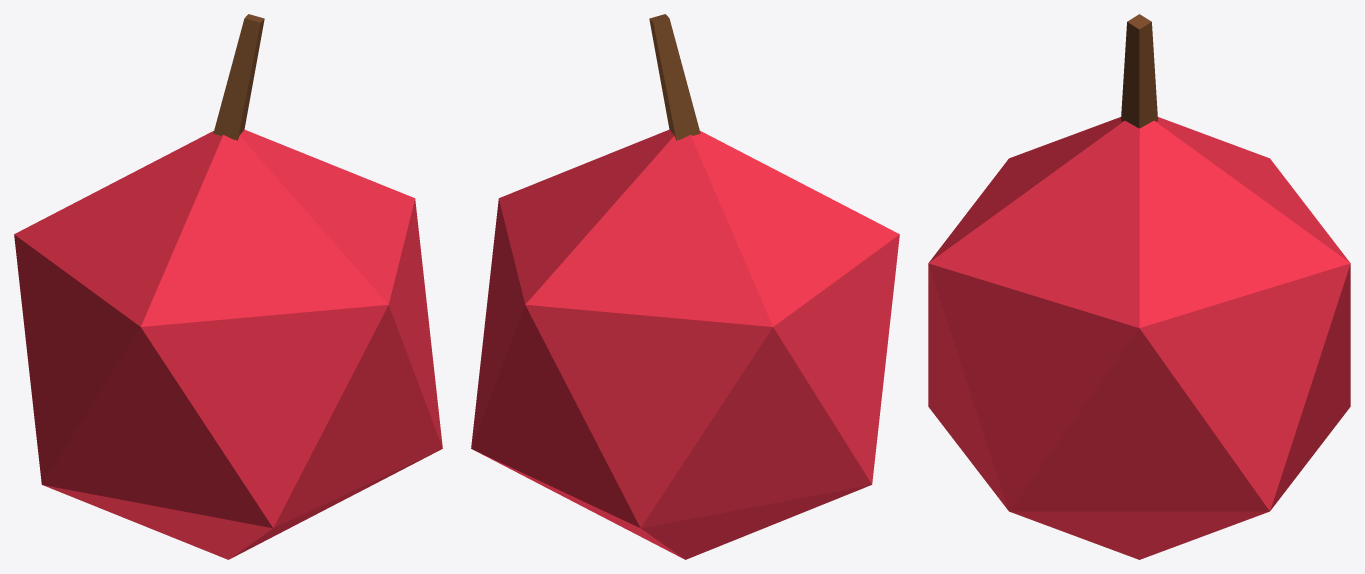
File: Lychee.fbx
The picture shows the model from 3 angles, left to right: view 1: azimuth 30°, elevation 25°; view 2: azimuth 150°, elevation 25°; view 3: azimuth 270°, elevation 25°; orthographic projection. The views are drawn at different scales.
Parts seen in each view (by area): view 1: Lychee; view 2: Lychee; view 3: Lychee.
Part boxes in pixels (left/top/right/bottom): Lychee: left=14, top=14, right=442, bottom=559; Lychee: left=471, top=14, right=899, bottom=559; Lychee: left=928, top=14, right=1350, bottom=559.
Bounding box in the file's own units: 0.7155 × 0.9849 × 0.6805.
Materials: 1 (1 with a texture image).
